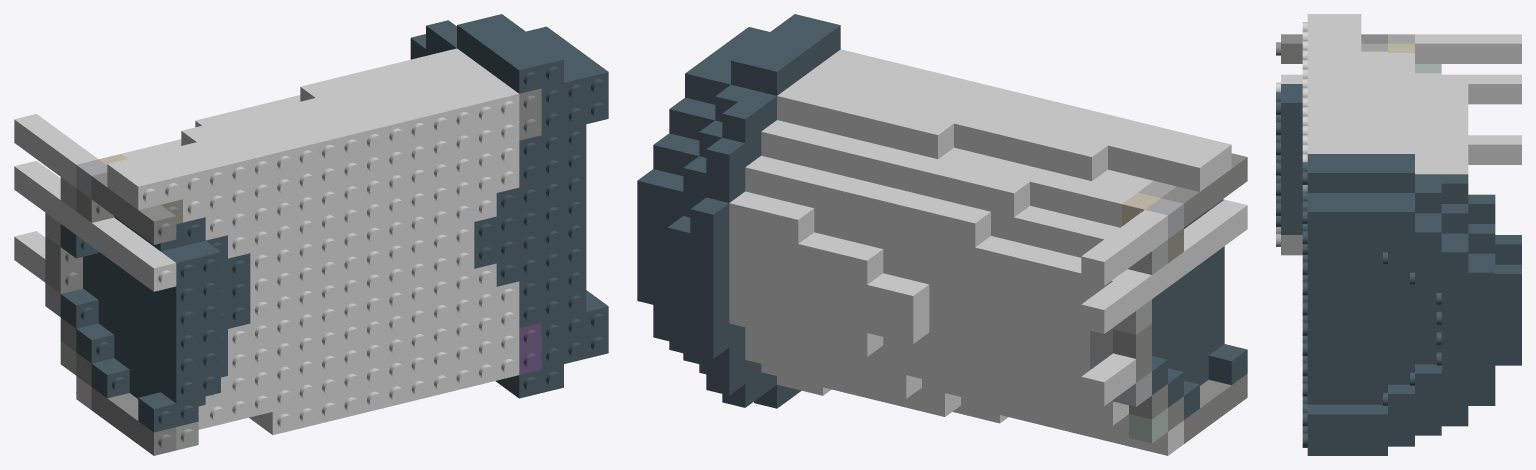
File: full.glb
3 views of the same model, side by side, from view 1: azimuth 30°, elevation 25°; view 2: azimuth 150°, elevation 25°; view 3: azimuth 270°, elevation 25° (orthographic). The views are drawn at different scales.
Parts seen in each view (by area): view 1: world; view 2: world; view 3: world.
Part boxes in pixels (box(x1,y1,x2,y2)): world: box(14, 14, 608, 455); world: box(637, 14, 1247, 455); world: box(1276, 14, 1521, 455).
Bounding box in the file's own units: 168 × 112 × 88.2.
